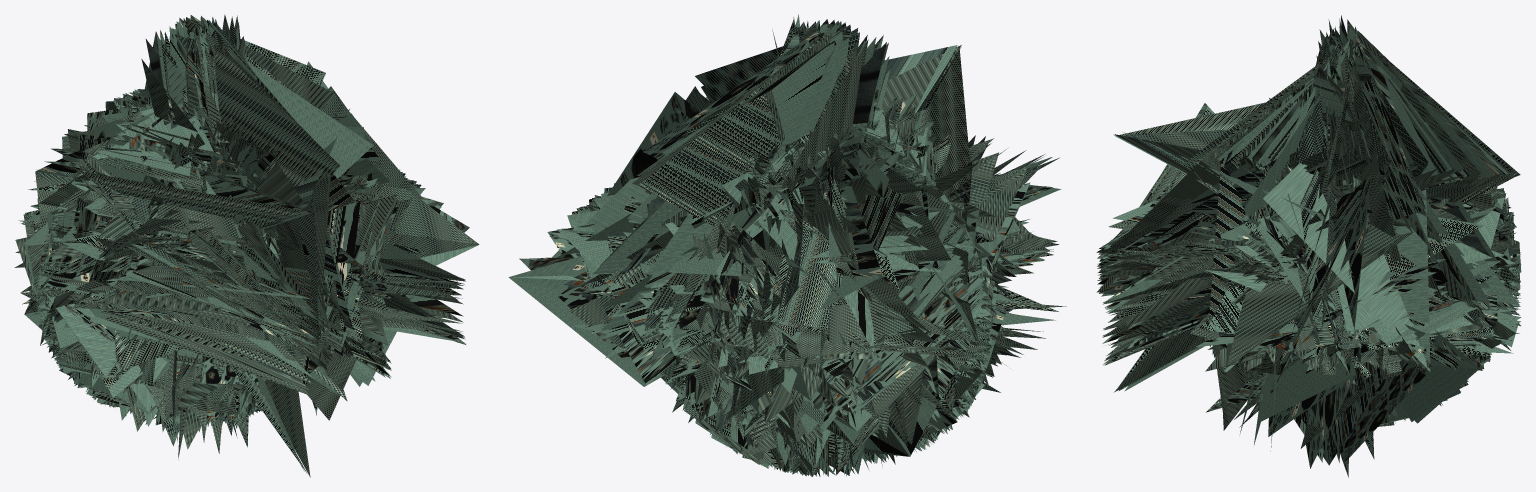
Rendered from Warrior.obj.
3 renders of one model, left to right at view 1: azimuth 30°, elevation 25°; view 2: azimuth 150°, elevation 25°; view 3: azimuth 270°, elevation 25°, orthographic. The views are drawn at different scales.
Visible parts, largest first — view 1: mesh_0_Warrior; view 2: mesh_0_Warrior; view 3: mesh_0_Warrior.
Part boxes in pixels (box(x1,y1,x2,y2)): mesh_0_Warrior: box(14, 14, 479, 477); mesh_0_Warrior: box(508, 14, 1066, 476); mesh_0_Warrior: box(1096, 15, 1521, 477).
Bounding box in the file's own units: 2.51 × 2.51 × 2.52.
